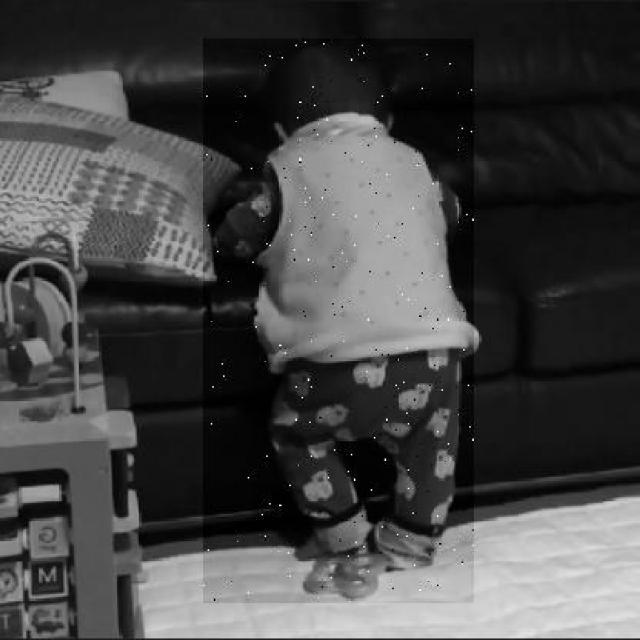child: (203, 39, 474, 603)
